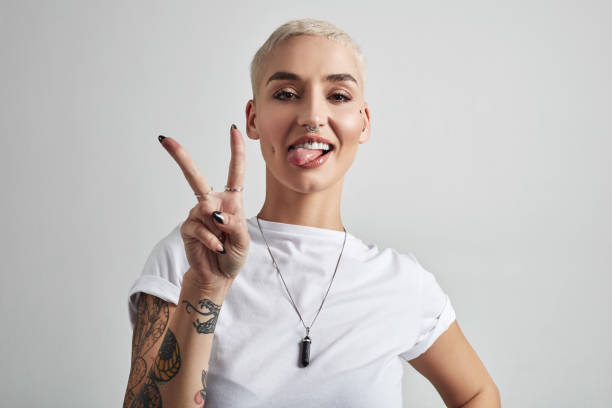PeaceOut: (158, 124, 251, 278)
